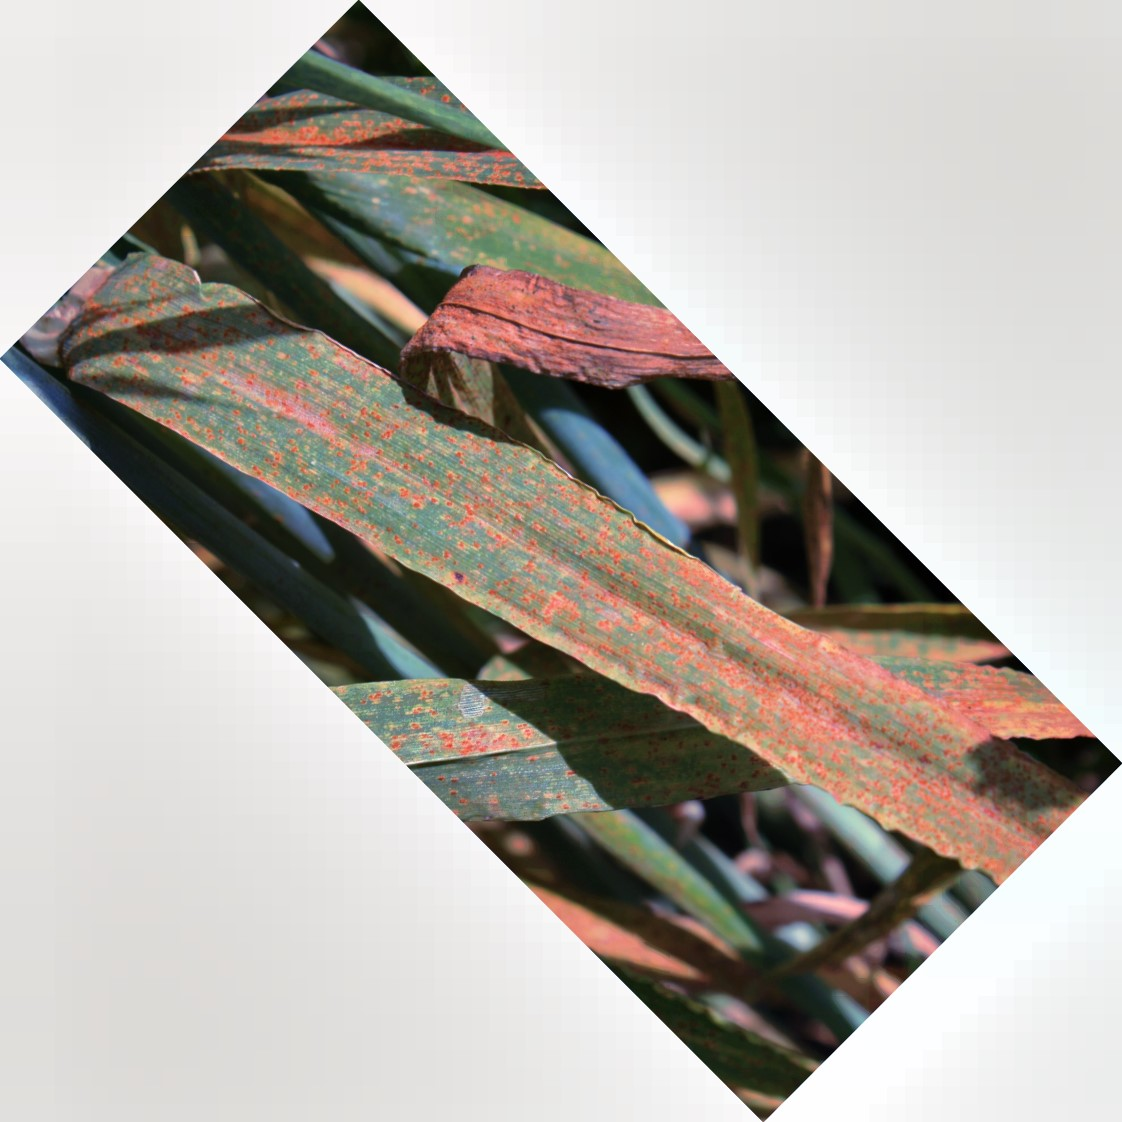Leaf Rust: (145, 294, 962, 813)
